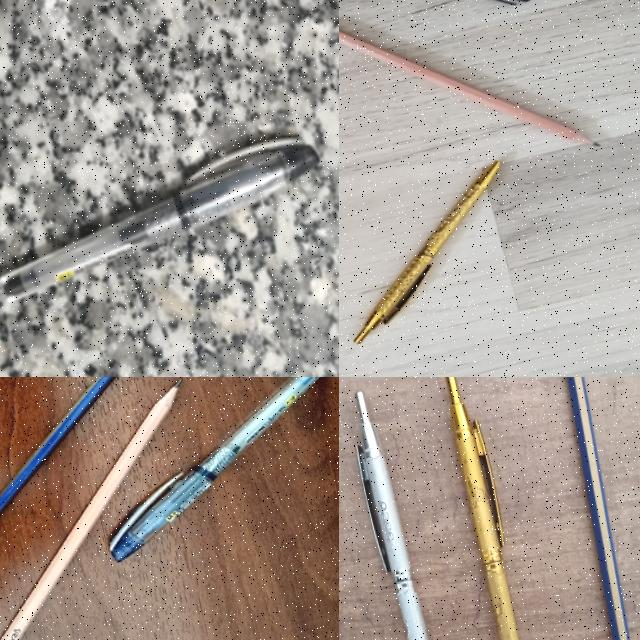pen: (0, 130, 320, 304), (80, 377, 339, 563), (339, 0, 532, 39)
pencil: (0, 380, 178, 640), (339, 28, 599, 144), (531, 377, 640, 640), (0, 377, 115, 512)
signature pen: (339, 160, 533, 341), (341, 387, 462, 640), (440, 382, 554, 640)
